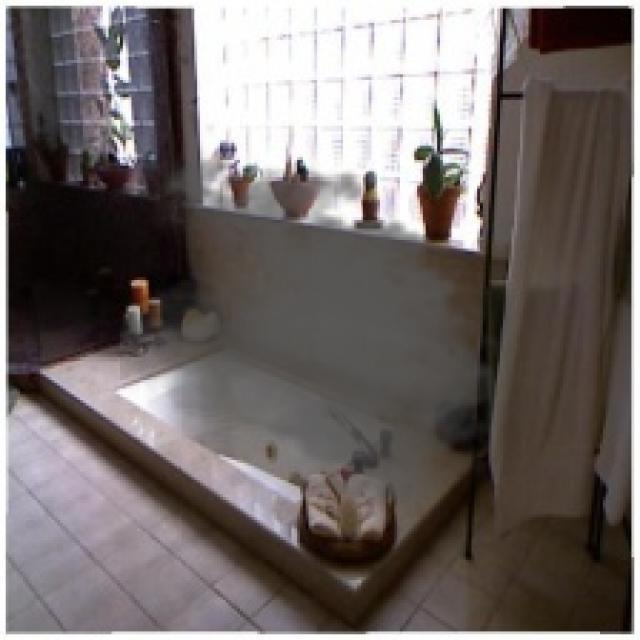Smoke: (120, 146, 517, 514)
